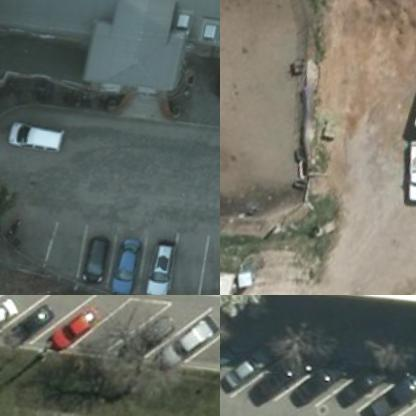car: (247, 346, 315, 415), (281, 353, 350, 415), (220, 338, 278, 410), (40, 306, 98, 376), (1, 299, 58, 369), (117, 314, 174, 384), (158, 317, 214, 387), (324, 360, 392, 415), (102, 238, 144, 294), (369, 366, 415, 415), (390, 137, 415, 215), (75, 239, 109, 293), (139, 244, 174, 294), (220, 335, 240, 408), (0, 295, 15, 361)
van: (2, 121, 60, 160)
